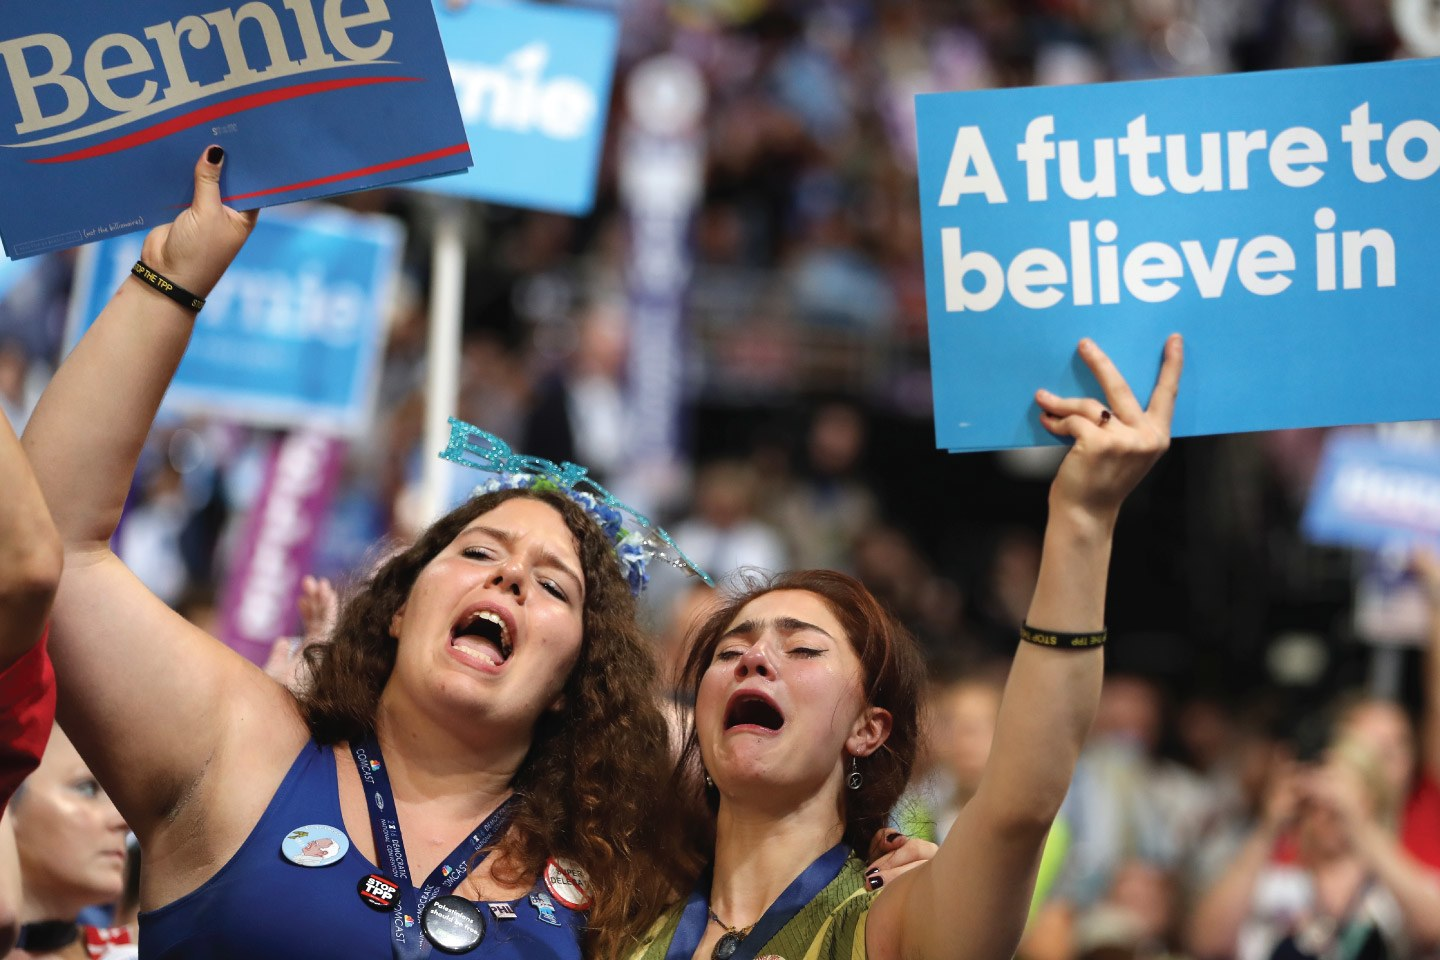sad: (688, 582, 862, 796)
